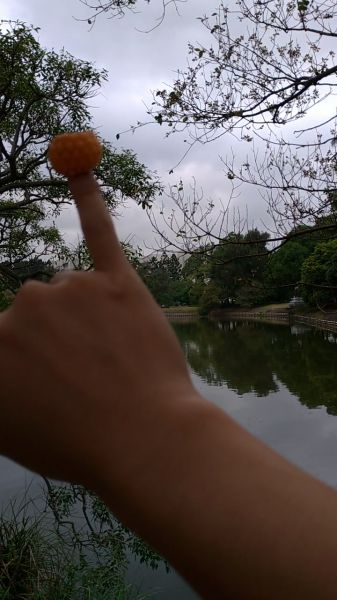eggs: (46, 131, 104, 176)
